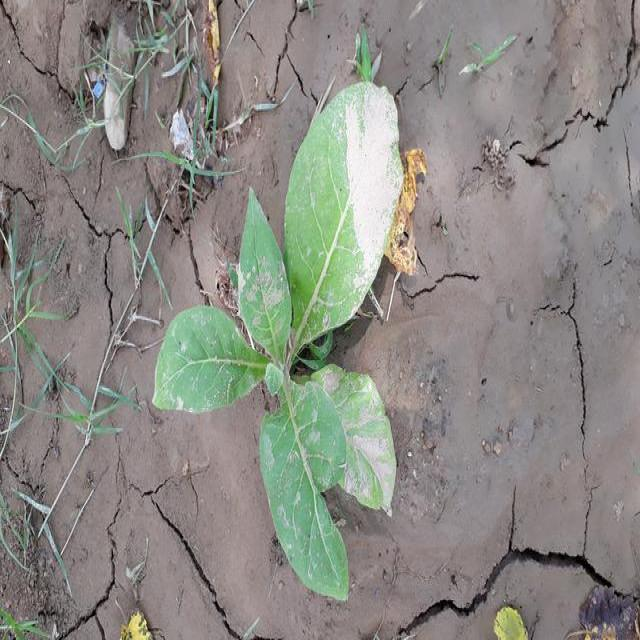crop: (150, 81, 423, 603)
